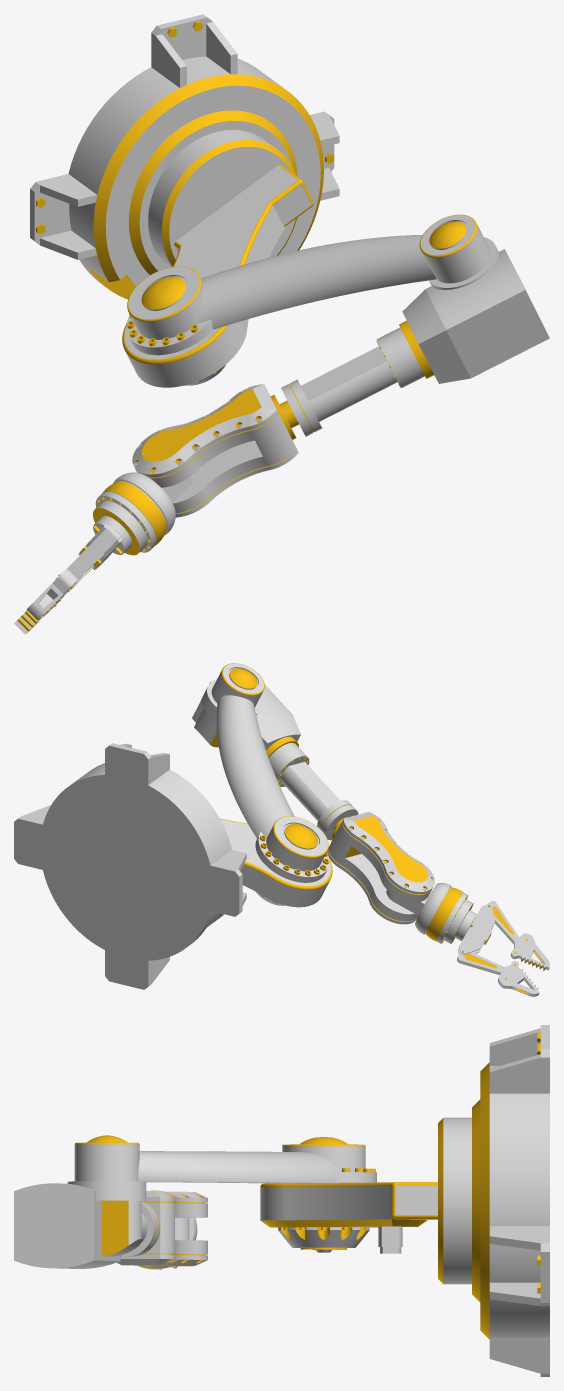
Rendered from assembly.gltf.
The picture shows the model from 3 angles, top to bottom: view 1: azimuth 30°, elevation 25°; view 2: azimuth 150°, elevation 25°; view 3: azimuth 270°, elevation 25°; orthographic projection. The views are drawn at different scales.
Parts seen in each view (by area): view 1: BASE, JAW1, JAW2, JAW3, JAW4, WRIST1, GRIPPER1, WRIST2; view 2: BASE, JAW2, JAW4, JAW3, JAW1, WRIST1, WRIST2, GRIPPER2, GRIPPER1; view 3: BASE, JAW1, JAW3, JAW2, JAW4, WRIST1.
Boxes of the visible parts, x1,y1,x2,y2 form: BASE: (30, 14, 339, 299); JAW1: (122, 130, 313, 387); JAW2: (126, 214, 490, 355); JAW3: (281, 237, 549, 436); JAW4: (132, 384, 298, 517); WRIST1: (95, 472, 196, 552); GRIPPER1: (26, 525, 121, 620); WRIST2: (78, 502, 145, 570); BASE: (14, 743, 246, 989); JAW2: (211, 663, 329, 882); JAW4: (327, 812, 434, 924); JAW3: (192, 678, 358, 840); JAW1: (220, 818, 332, 907); WRIST1: (386, 882, 468, 943); WRIST2: (445, 900, 494, 954); GRIPPER2: (457, 951, 539, 996); GRIPPER1: (488, 901, 549, 970); BASE: (472, 1025, 549, 1376); JAW1: (260, 1117, 471, 1284); JAW3: (14, 1181, 159, 1268); JAW2: (74, 1135, 376, 1183); JAW4: (116, 1191, 207, 1266); WRIST1: (137, 1190, 197, 1269).
Size of the model in its own units: 0.6618 by 0.4807 by 0.5784.
